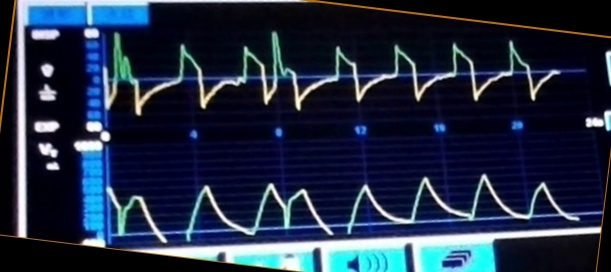Double_Triggering Flow: (102, 28, 534, 115)
Double_Triggering Volume: (105, 168, 543, 243)
